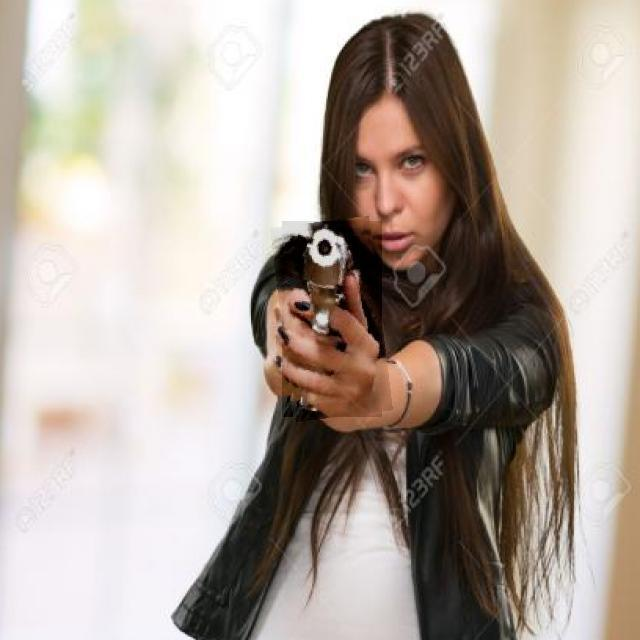Handgun: (276, 219, 388, 420)
